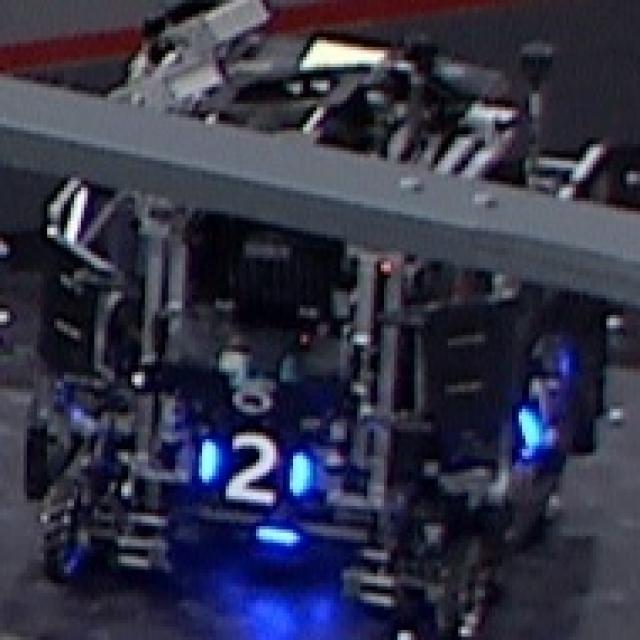B2: (192, 422, 307, 506), (512, 376, 566, 452)
